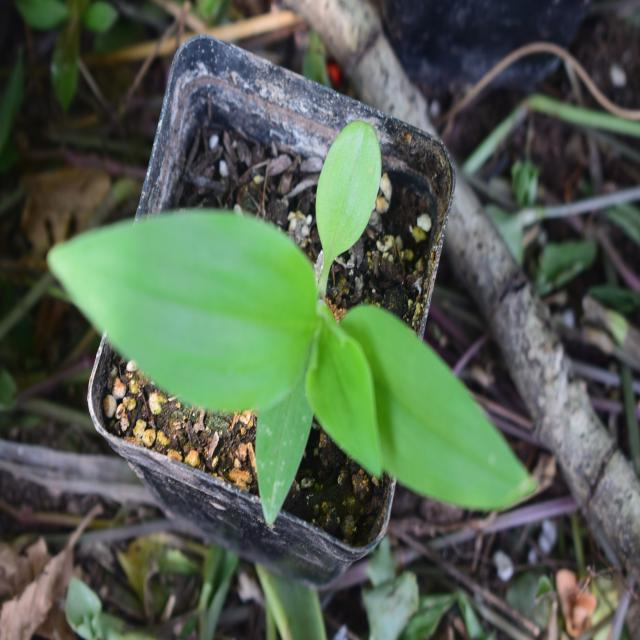Common Dayflower: (66, 158, 528, 524)
